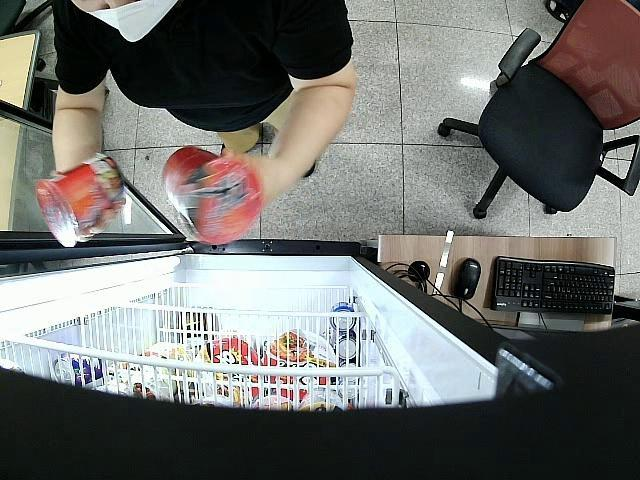02_shinRamen_S: (162, 146, 264, 247), (36, 153, 124, 248)
